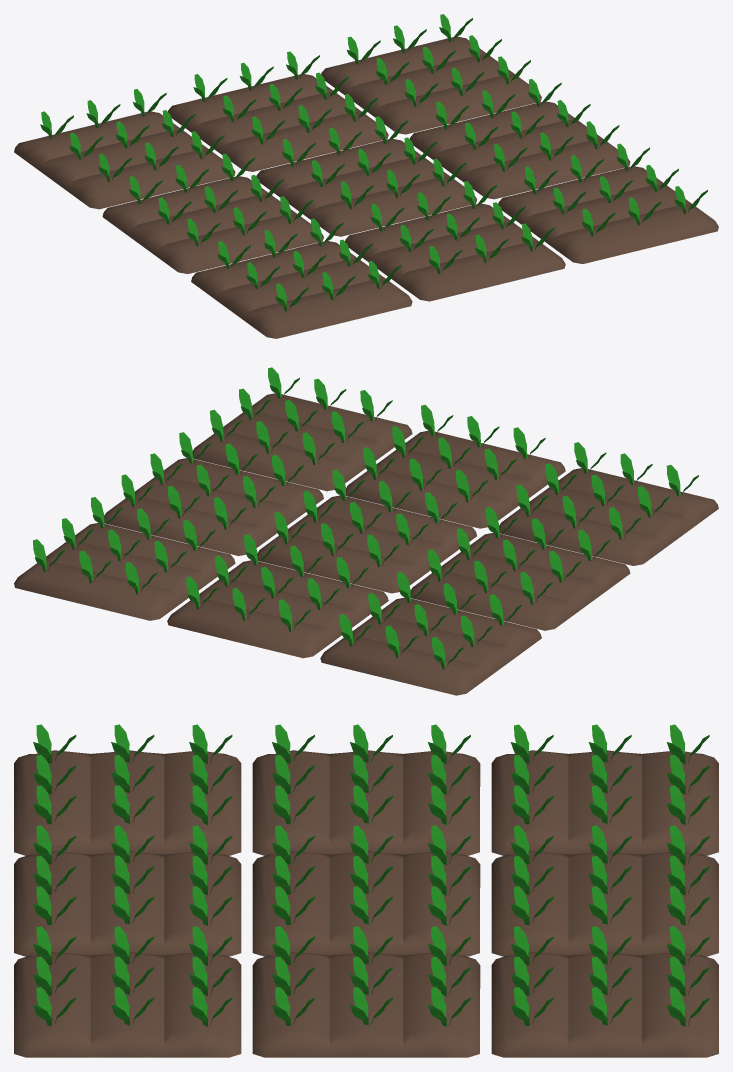
The model's file is field.glb.
The picture shows the model from 3 angles, top to bottom: view 1: azimuth 30°, elevation 25°; view 2: azimuth 150°, elevation 25°; view 3: azimuth 270°, elevation 25°; orthographic projection. The views are drawn at different scales.
Visible parts, largest first — view 1: grass; view 2: grass; view 3: grass.
Part boxes in pixels (box(x1,y1,x2,y2)): grass: box(14, 14, 718, 338); grass: box(14, 367, 718, 695); grass: box(14, 724, 718, 1057).
Bounding box in the file's own units: 6.2 × 0.462 × 6.2.
Materials: 2 (2 with a texture image).
